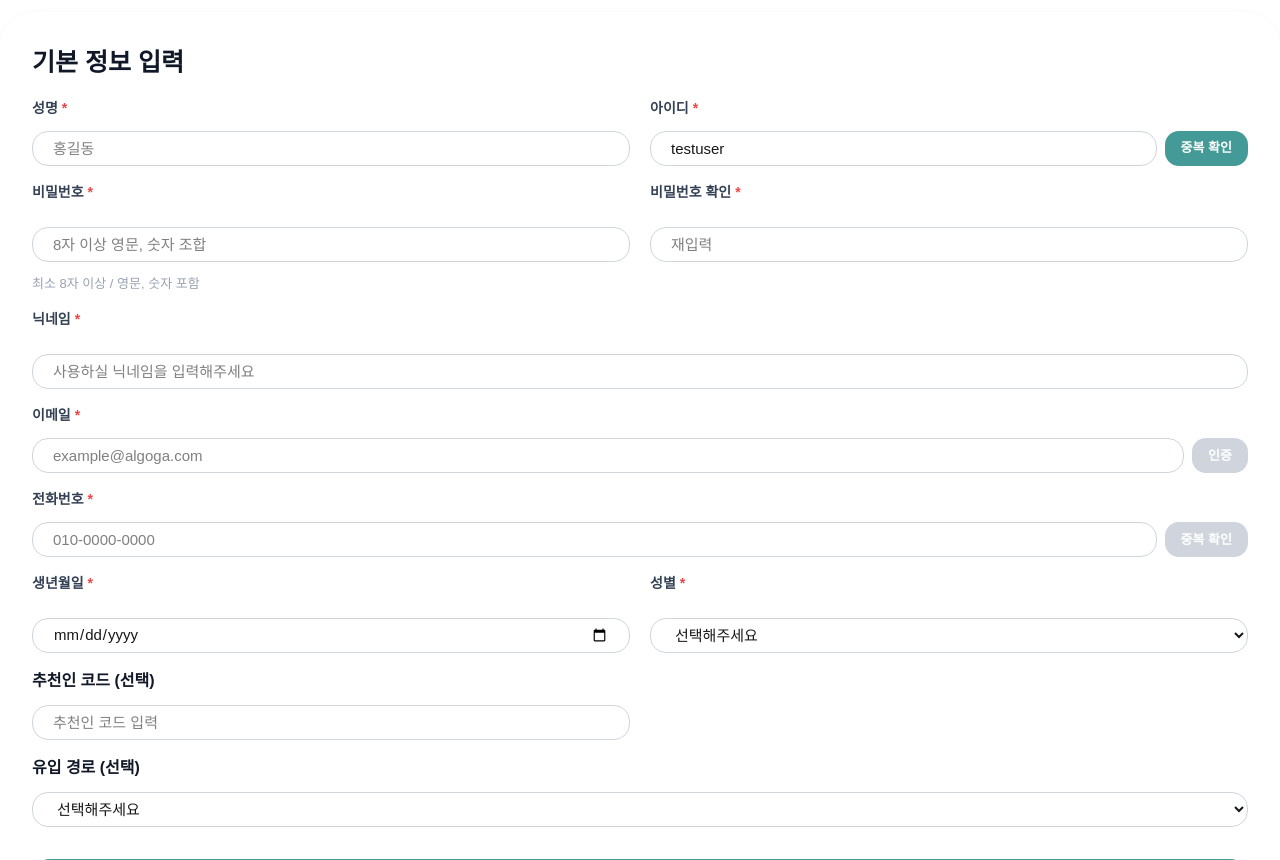
RegisterInfoForm 컴포넌트 테스트 › 이미 사용 중인 아이디면 에러 문구가 보인다
The width and height of the screenshot is (1280, 860).
What coordinates should you click on to do the following:
click the button with aria-label "중복 확인: 사용자 이름 검사"
I would click on:
 (1206, 148)
Its box is [1164,130,1248,166].
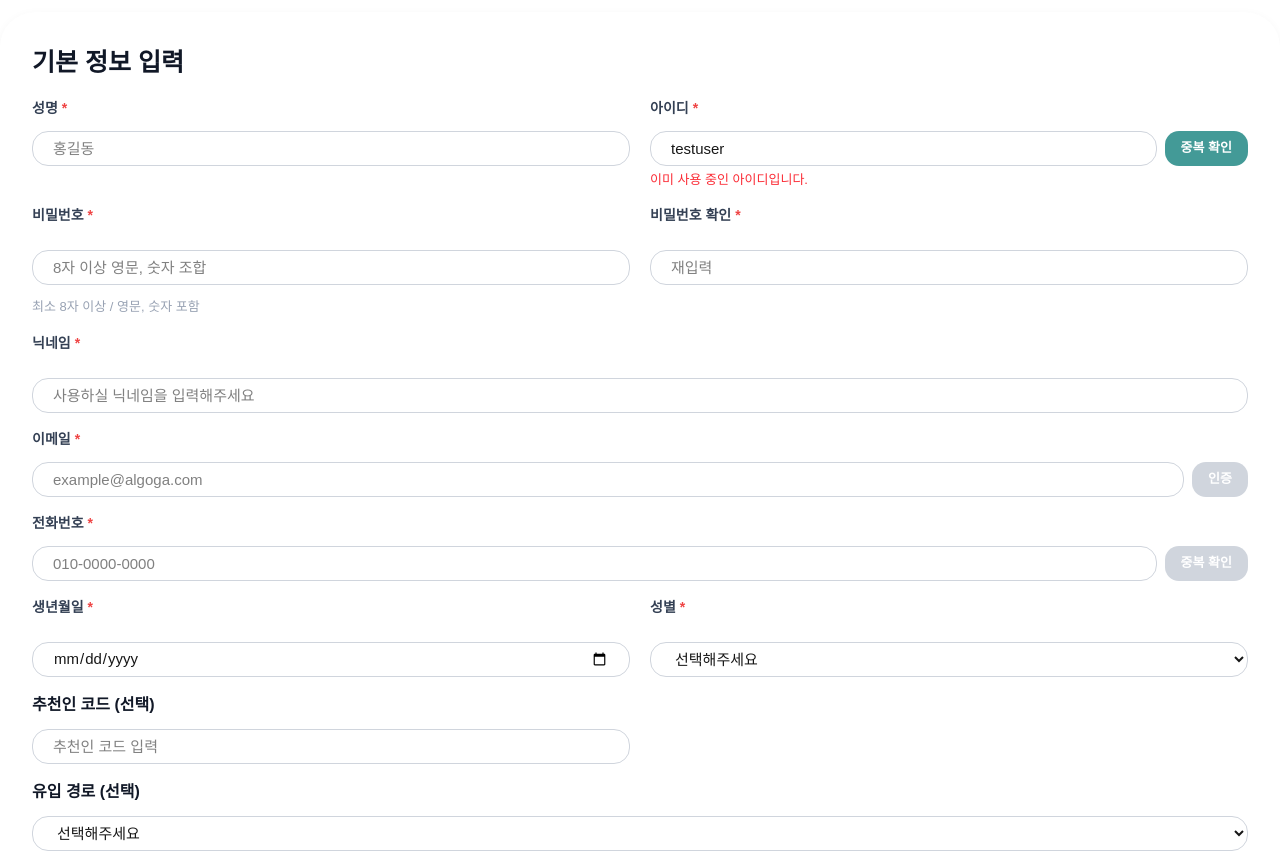
expect the text "이미 사용 중인 아이디입니다." is shown: met, box [650,172,808,186]
